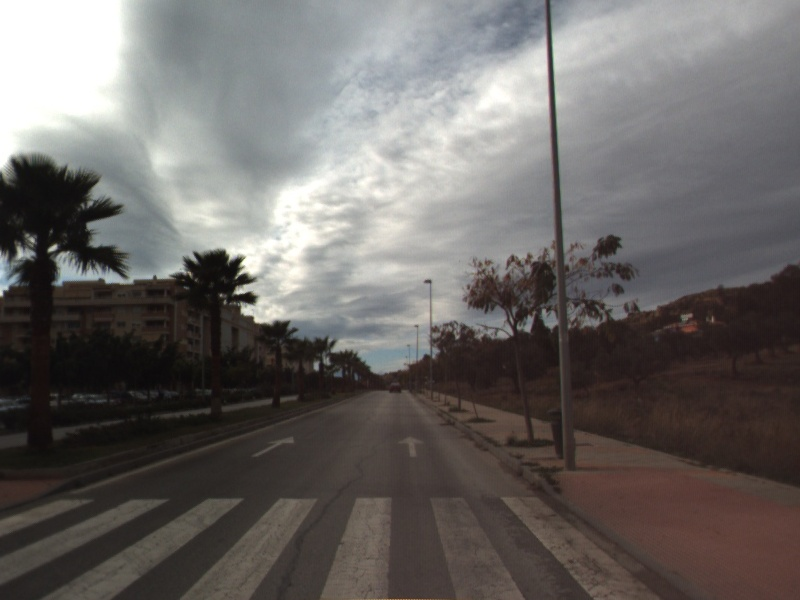STRAIGHT: (249, 434, 296, 459), (396, 433, 427, 459)
